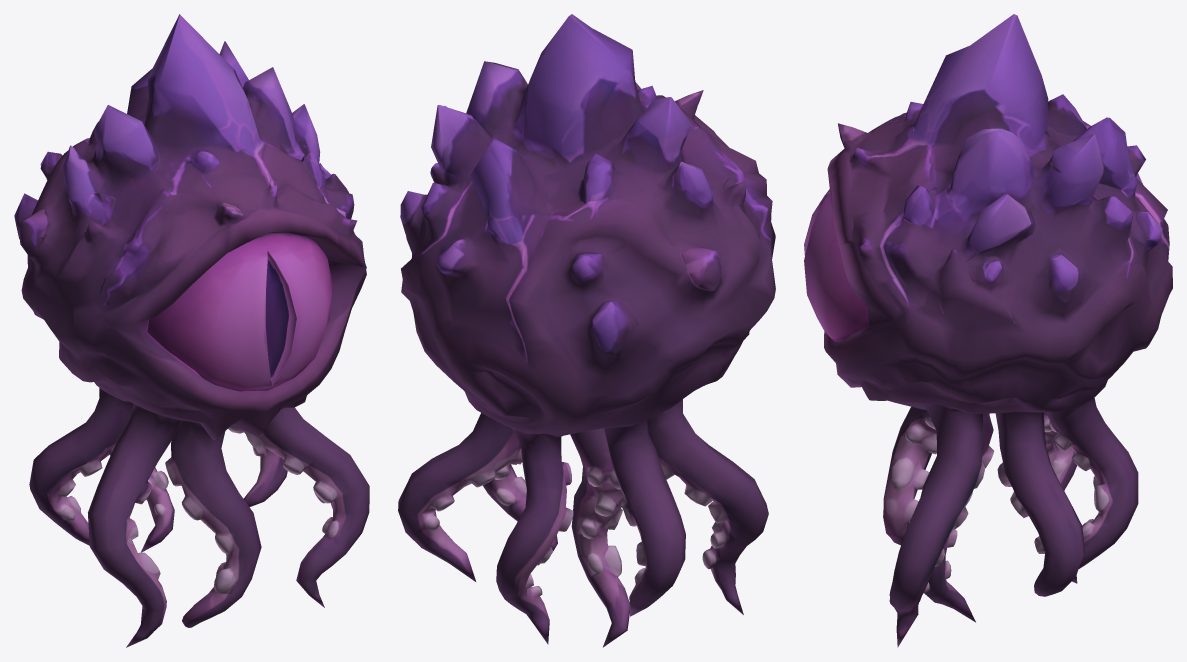
Rendered from tripo_convert_569d8098-e36e-41b2-9634-8f5bd0ac687a.fbx.
3 views of the same model, side by side, from view 1: azimuth 30°, elevation 25°; view 2: azimuth 150°, elevation 25°; view 3: azimuth 270°, elevation 25° (orthographic). The views are drawn at different scales.
Parts seen in each view (by area): view 1: tripo_node_569d8098; view 2: tripo_node_569d8098; view 3: tripo_node_569d8098.
Part boxes in pixels (bbox=[...]): tripo_node_569d8098: bbox=[14, 14, 369, 647]; tripo_node_569d8098: bbox=[398, 14, 775, 647]; tripo_node_569d8098: bbox=[804, 14, 1172, 647].
Size of the model in its own units: 52 by 54.44 by 99.95.
1 material, 1 textured.
